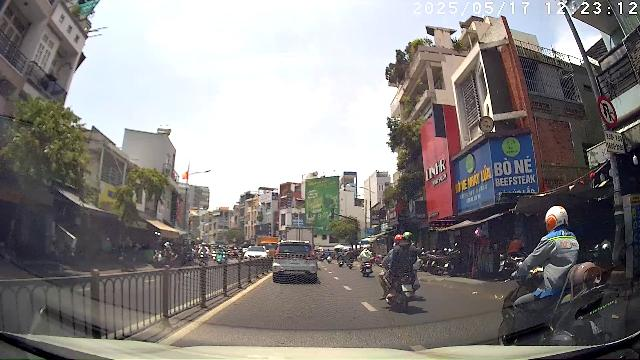124b-cam-oto-quay-dau-xe: (597, 96, 617, 128)
